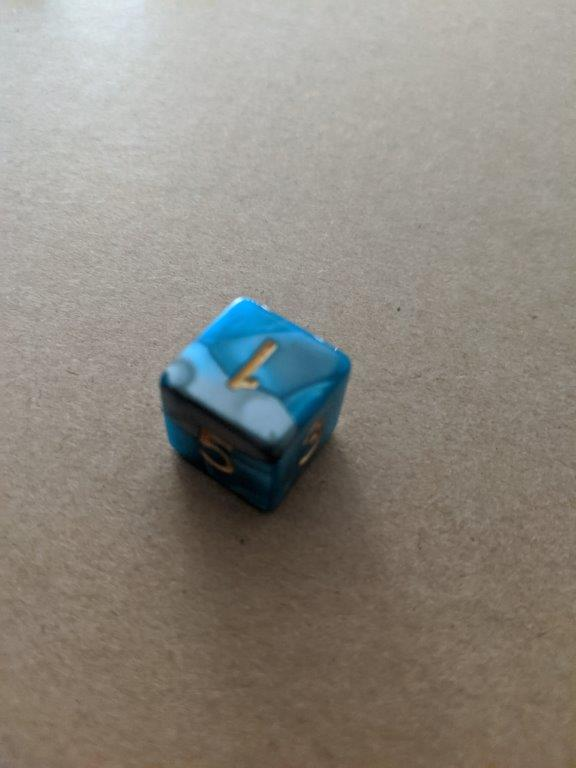d6-1: (161, 292, 352, 514)
